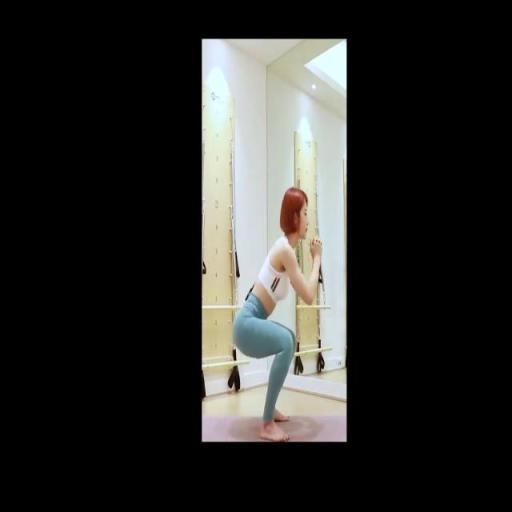Normal_BrenchPress: (229, 189, 324, 443)
